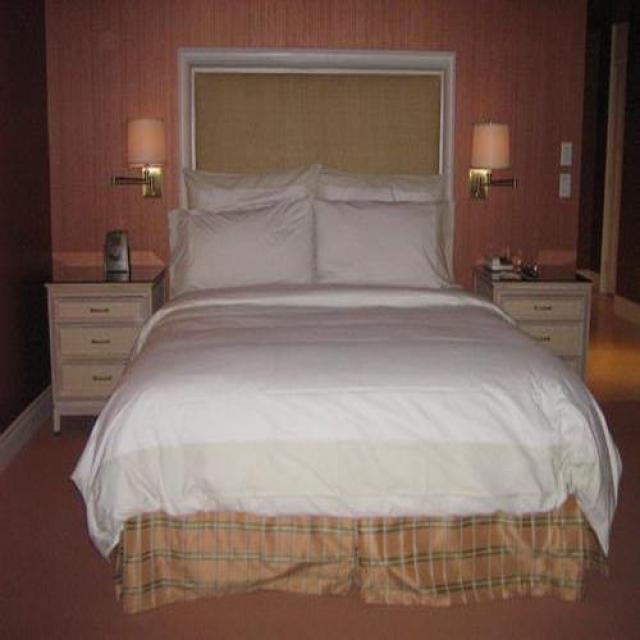bed: (70, 49, 625, 617)
table: (46, 274, 164, 434), (474, 264, 593, 381)
